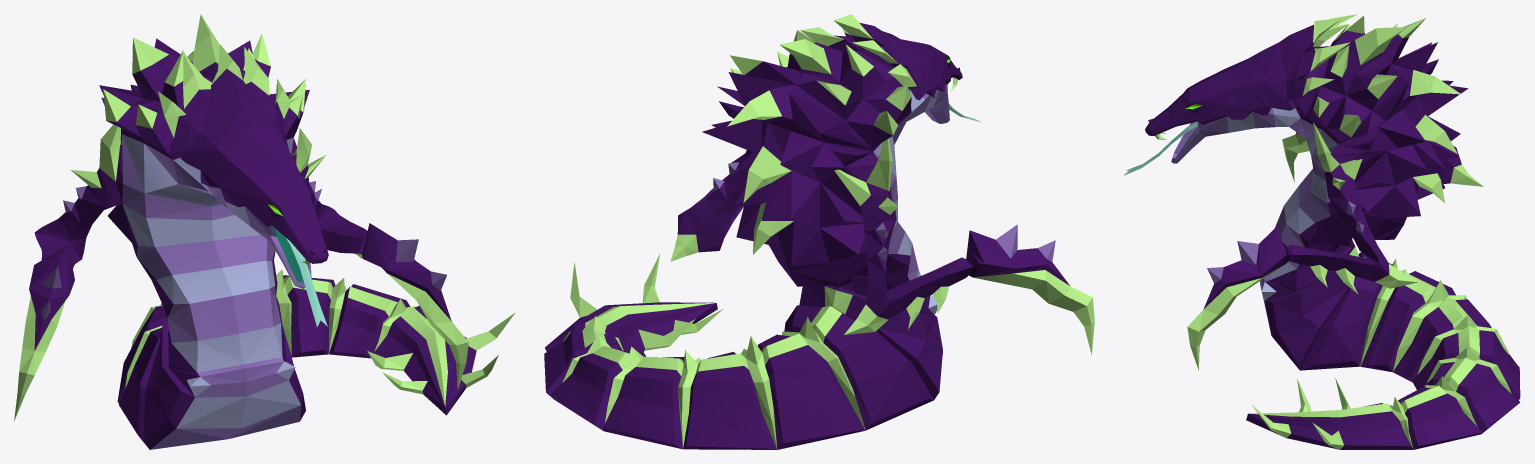
The picture shows the model from 3 angles, left to right: view 1: azimuth 30°, elevation 25°; view 2: azimuth 150°, elevation 25°; view 3: azimuth 270°, elevation 25°; orthographic projection. The views are drawn at different scales.
Visible parts, largest first — view 1: Alien_Serpent; view 2: Alien_Serpent; view 3: Alien_Serpent.
Boxes of the visible parts, x1,y1,x2,y2 form: Alien_Serpent: (14, 14, 515, 449); Alien_Serpent: (544, 14, 1094, 449); Alien_Serpent: (1124, 14, 1520, 449).
Bounding box in the file's own units: 298 × 211 × 228.
1 material, 1 textured.
